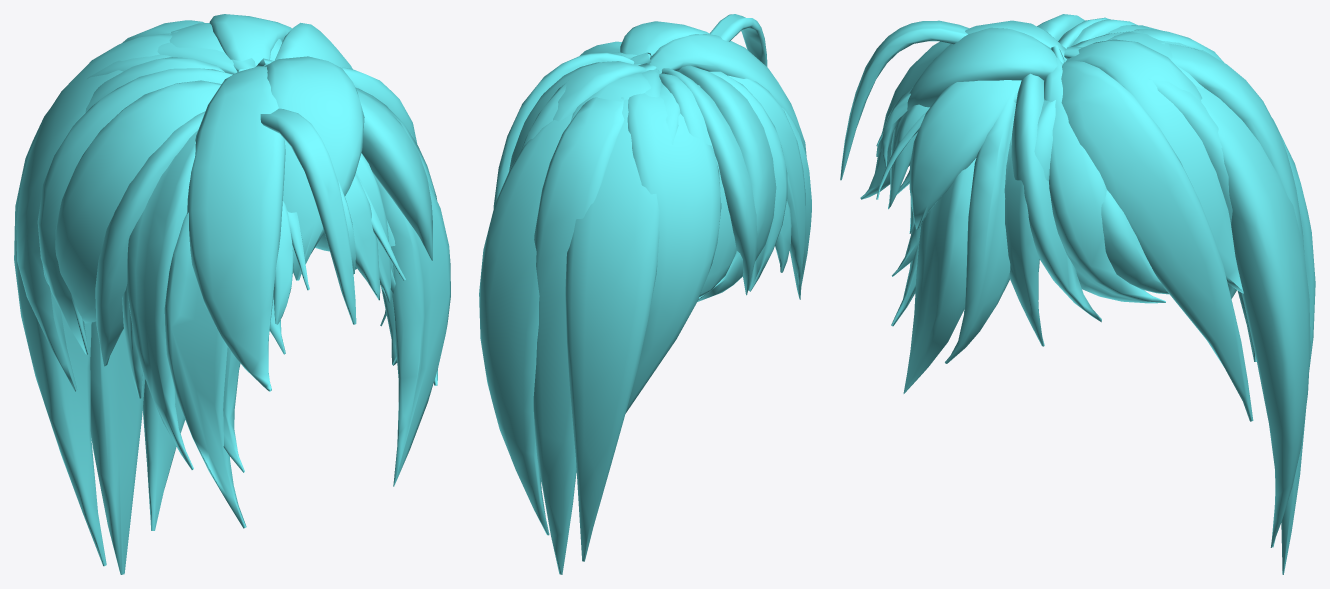
Rendered from Hair2.fbx.
3 views of the same model, side by side, from view 1: azimuth 30°, elevation 25°; view 2: azimuth 150°, elevation 25°; view 3: azimuth 270°, elevation 25° (orthographic). The views are drawn at different scales.
Parts seen in each view (by area): view 1: Hair2; view 2: Hair2; view 3: Hair2.
Part boxes in pixels (<box>): Hair2: <box>14,14,450,574</box>; Hair2: <box>479,14,811,574</box>; Hair2: <box>840,14,1315,574</box>.
Size of the model in its own units: 215 by 385 by 305.
